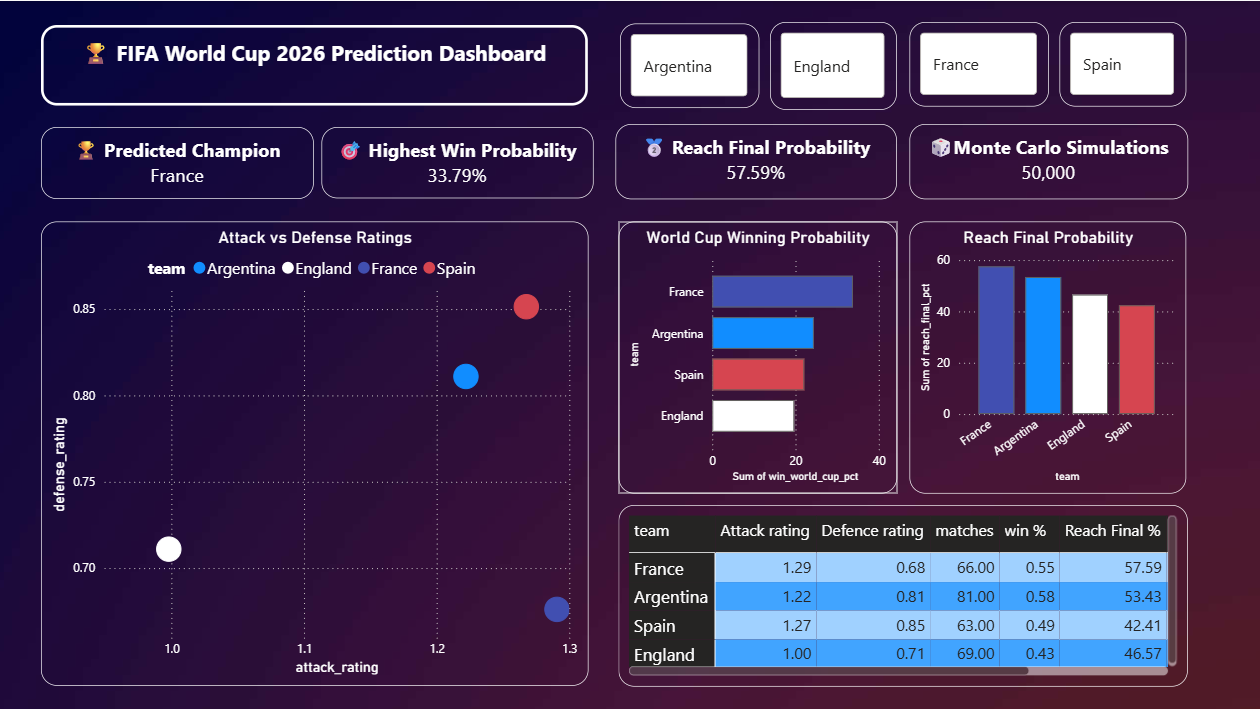

The page's visual inventory and layout, read from the dashboard file:
{"tool":"powerbi","page":{"name":"Page 1","canvas":[1280,720],"ordinal":0},"visuals":[{"type":"clusteredBarChart","title":"World Cup Winning Probability","fields":{"Category":["world_cup_2026_prediction.team"],"Y":["Sum(world_cup_2026_prediction.win_world_cup_pct)"]},"box":[628.4,222.6,281.1,274.7],"z":0},{"type":"clusteredColumnChart","title":"Reach Final Probability","fields":{"Category":["world_cup_2026_prediction.team"],"Y":["Sum(world_cup_2026_prediction.reach_final_pct)"]},"box":[922.1,222.6,279.5,274.7],"z":1},{"type":"scatterChart","title":"Attack vs Defense Ratings","fields":{"X":["team_strength_ratings.attack_rating"],"Y":["team_strength_ratings.defense_rating"],"Series":["world_cup_2026_prediction.team"]},"box":[45.8,222.6,552.6,469],"z":2},{"type":"pivotTable","fields":{"Rows":["world_cup_2026_prediction.team"],"Values":["Median(team_strength_ratings.attack_rating)","Avg(team_strength_ratings.defense_rating)","Avg(team_strength_ratings.matches_played)","Avg(team_strength_ratings.win_rate)","Avg(world_cup_2026_prediction.reach_final_pct)","Avg(world_cup_2026_prediction.win_world_cup_pct)"]},"box":[628.4,508.4,574.7,183.2],"z":3},{"type":"textbox","box":[45.8,127.5,282.8,71.7],"z":8},{"type":"textbox","box":[922.1,124.7,281.1,75.8],"z":9},{"type":"textbox","box":[328.6,127.5,274.9,71.7],"z":10},{"type":"textbox","box":[625.3,124.7,284.2,75.8],"z":11},{"type":"textbox","box":[45.8,23.9,551.7,81.7],"z":12},{"type":"advancedSlicerVisual","fields":{"Values":["world_cup_2026_prediction.team"]},"box":[922.1,20.5,140.5,85.3],"z":14},{"type":"advancedSlicerVisual","fields":{"Values":["world_cup_2026_prediction.team"]},"box":[1073.7,20.5,127.9,85.3],"z":15},{"type":"advancedSlicerVisual","fields":{"Values":["world_cup_2026_prediction.team"]},"box":[781.6,20.5,127.9,88.4],"z":16},{"type":"advancedSlicerVisual","fields":{"Values":["world_cup_2026_prediction.team"]},"box":[630,22.1,140.5,85.3],"z":17}]}

Visuals, with their boxes in screenshot pixels (x1, y1, x2, y2), scaled from the page's 1280x720 canvas onto the 1260x709 screenshot:
"World Cup Winning Probability" clusteredBarChart: x1=619, y1=219, x2=895, y2=490
"Reach Final Probability" clusteredColumnChart: x1=908, y1=219, x2=1183, y2=490
"Attack vs Defense Ratings" scatterChart: x1=45, y1=219, x2=589, y2=681
pivotTable - world_cup_2026_prediction.team x Median(team_strength_ratings.attack_rating): x1=619, y1=501, x2=1184, y2=681
textbox: x1=45, y1=126, x2=323, y2=196
textbox: x1=908, y1=123, x2=1184, y2=197
textbox: x1=323, y1=126, x2=594, y2=196
textbox: x1=616, y1=123, x2=895, y2=197
textbox: x1=45, y1=24, x2=588, y2=104
advancedSlicerVisual - world_cup_2026_prediction.team: x1=908, y1=20, x2=1046, y2=104
advancedSlicerVisual - world_cup_2026_prediction.team: x1=1057, y1=20, x2=1183, y2=104
advancedSlicerVisual - world_cup_2026_prediction.team: x1=769, y1=20, x2=895, y2=107
advancedSlicerVisual - world_cup_2026_prediction.team: x1=620, y1=22, x2=758, y2=106
